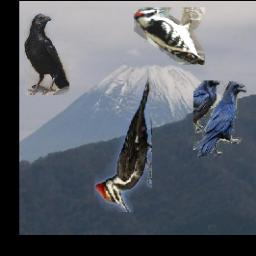Crow: (194, 81, 247, 159), (25, 15, 70, 96)
Woodpecker: (94, 73, 152, 213), (134, 8, 205, 66)
